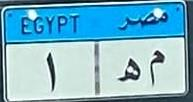1: (40, 51, 66, 93)
haa: (117, 55, 142, 87)
meem: (142, 47, 168, 92)
